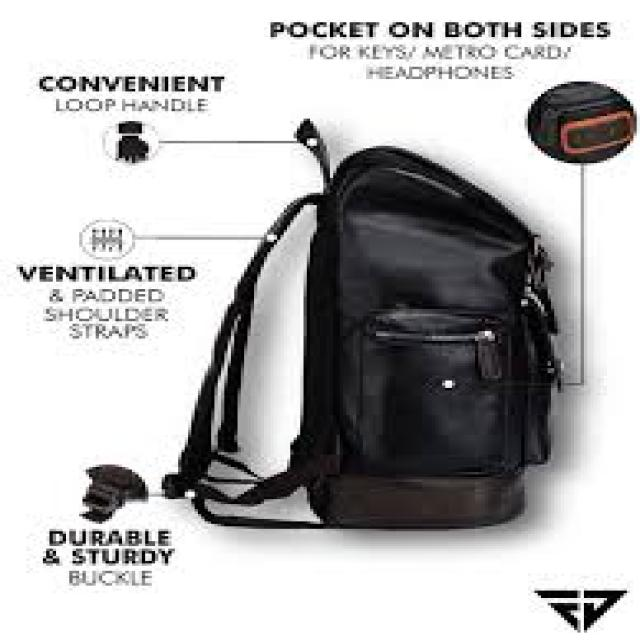backpack: (291, 126, 554, 539)
